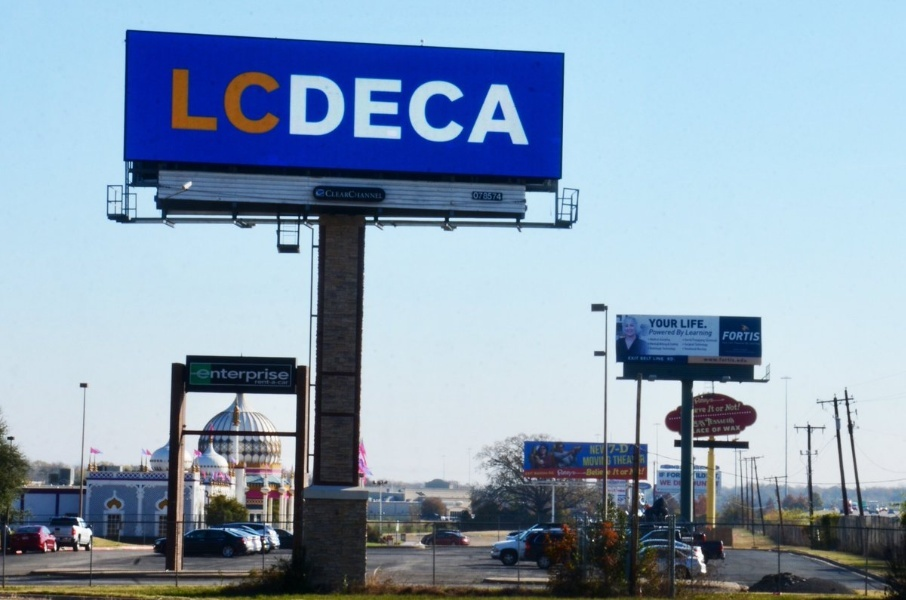text: (177, 67, 192, 148), (193, 67, 208, 148), (209, 67, 224, 148), (225, 67, 240, 148), (241, 67, 256, 148), (257, 67, 272, 148), (273, 67, 288, 148), (289, 67, 304, 148), (305, 67, 320, 148), (321, 67, 336, 148), (337, 67, 352, 148), (353, 67, 368, 148), (369, 67, 384, 148), (385, 67, 400, 148), (401, 67, 416, 148), (417, 67, 432, 148), (433, 67, 448, 148), (449, 67, 464, 148), (465, 67, 480, 148), (481, 67, 496, 148), (497, 67, 512, 148), (513, 67, 528, 148), (170, 67, 176, 148), (529, 67, 534, 148), (209, 368, 224, 382), (225, 368, 240, 382), (241, 368, 256, 382), (257, 368, 272, 382), (273, 368, 288, 382), (657, 337, 672, 351), (689, 338, 704, 352), (705, 338, 719, 352), (657, 318, 672, 330), (737, 330, 752, 342), (369, 190, 385, 201), (196, 368, 208, 382), (337, 190, 352, 201), (353, 190, 368, 201), (689, 319, 704, 330), (721, 418, 737, 428), (705, 418, 720, 428), (689, 329, 704, 339), (481, 191, 496, 201), (673, 478, 688, 488), (609, 444, 624, 454), (593, 456, 608, 466), (724, 330, 736, 342), (707, 404, 720, 415), (593, 445, 606, 456), (705, 396, 720, 405), (561, 469, 577, 477), (325, 190, 336, 201), (613, 467, 624, 478), (593, 468, 605, 478), (648, 337, 656, 351), (658, 471, 672, 479), (693, 418, 704, 428), (725, 402, 736, 412), (753, 330, 762, 342), (660, 478, 672, 487), (705, 357, 720, 364), (721, 357, 736, 364), (723, 425, 736, 433), (705, 329, 715, 339), (614, 455, 624, 465), (625, 455, 635, 465), (673, 337, 680, 351), (676, 330, 688, 338), (257, 380, 272, 386), (273, 380, 288, 386), (657, 330, 672, 336), (641, 356, 656, 362), (657, 356, 672, 362), (583, 456, 592, 466), (649, 318, 656, 330), (673, 318, 680, 330), (682, 338, 688, 352), (737, 357, 749, 364), (695, 396, 704, 405), (627, 356, 640, 362), (681, 319, 688, 330), (693, 427, 704, 434), (694, 407, 704, 414), (473, 191, 480, 201), (673, 471, 681, 479), (696, 472, 704, 480), (641, 468, 648, 477), (737, 402, 743, 412), (497, 191, 503, 201), (586, 468, 592, 478), (529, 471, 544, 475), (694, 481, 704, 487), (712, 427, 720, 434), (625, 444, 630, 454), (641, 455, 646, 465), (715, 472, 720, 481), (705, 319, 709, 330), (649, 330, 656, 336), (667, 471, 672, 479), (545, 471, 555, 475), (721, 396, 725, 405), (715, 406, 720, 413), (705, 427, 710, 434), (589, 445, 592, 456), (737, 425, 741, 433), (620, 469, 624, 477), (625, 469, 629, 477), (685, 329, 688, 339), (673, 356, 678, 362), (609, 456, 612, 466), (715, 481, 720, 487), (721, 406, 725, 413), (673, 330, 677, 336), (557, 469, 560, 477), (705, 481, 708, 487), (524, 471, 528, 475), (289, 368, 290, 382), (639, 455, 640, 465), (639, 468, 640, 477), (705, 472, 706, 480), (703, 357, 704, 364), (705, 407, 706, 414), (721, 427, 722, 434), (289, 380, 290, 386)
